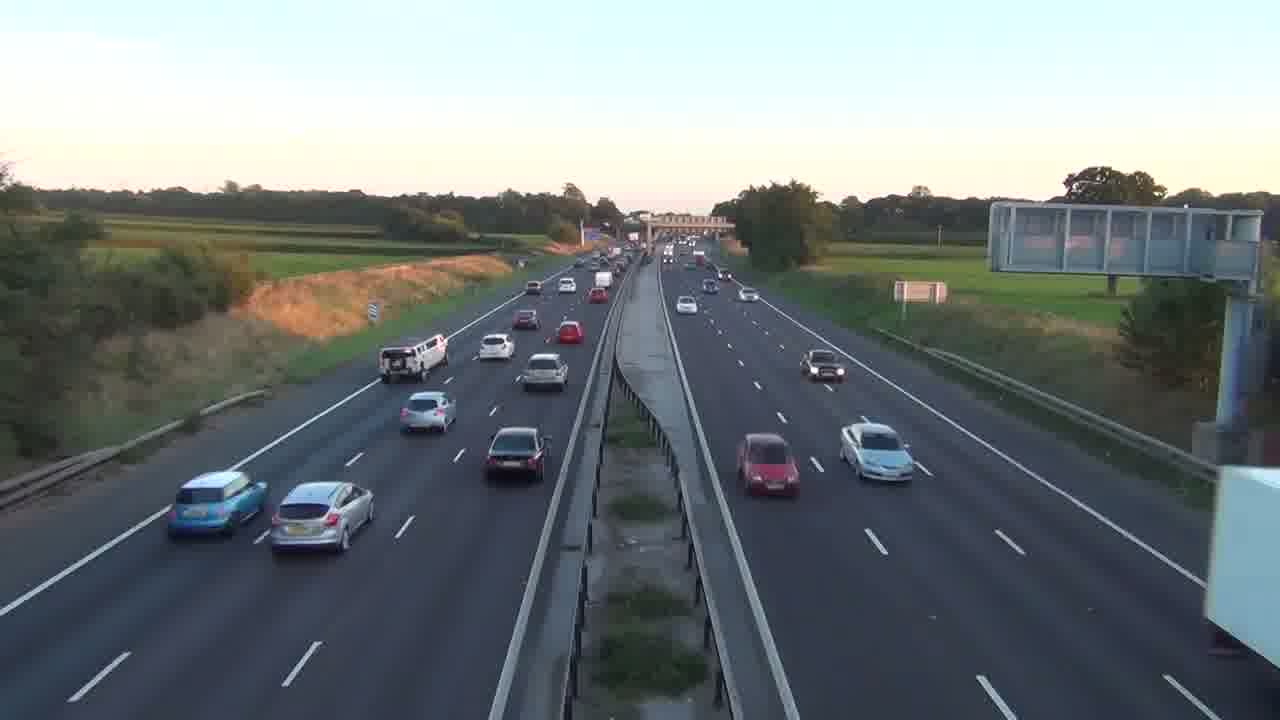car: (269, 480, 375, 554), (166, 469, 270, 539), (839, 418, 914, 483), (735, 432, 801, 499), (483, 425, 548, 483), (399, 389, 457, 434), (518, 351, 569, 392), (799, 348, 848, 387), (478, 332, 516, 360), (557, 320, 585, 344), (512, 309, 539, 330), (675, 295, 699, 315), (558, 275, 576, 294)
truck: (377, 333, 450, 383)
